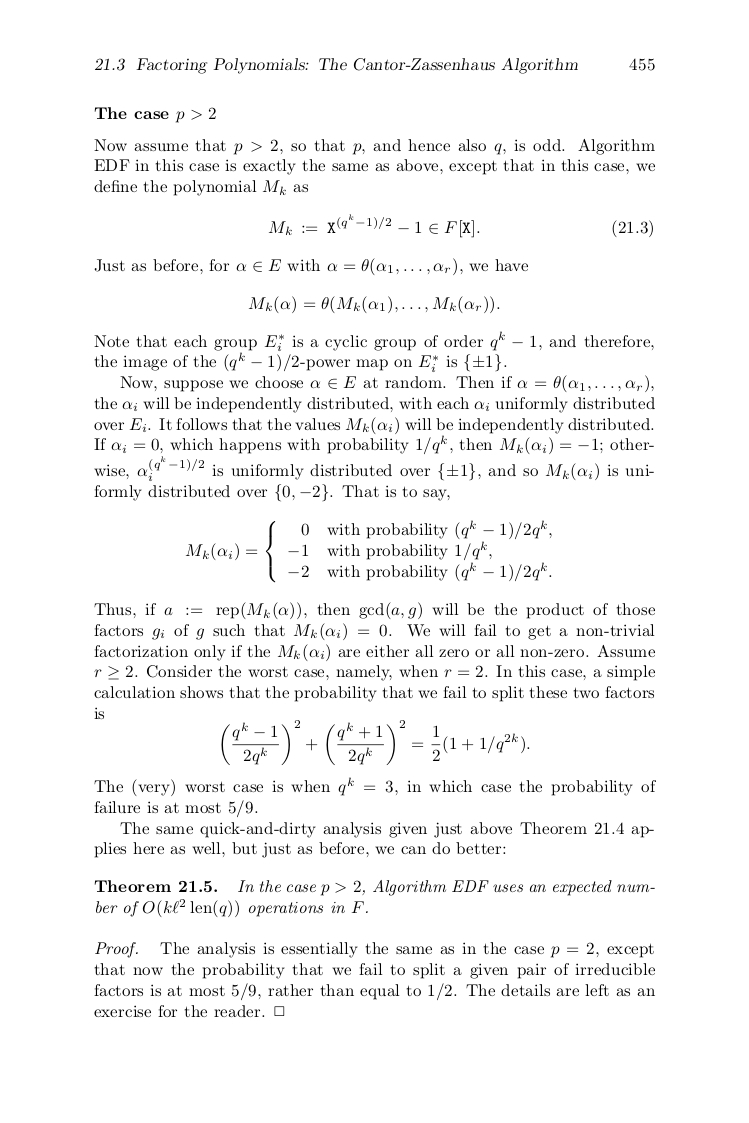formula: (185, 519, 551, 583), (221, 719, 529, 765), (268, 213, 652, 238), (248, 295, 499, 314)
